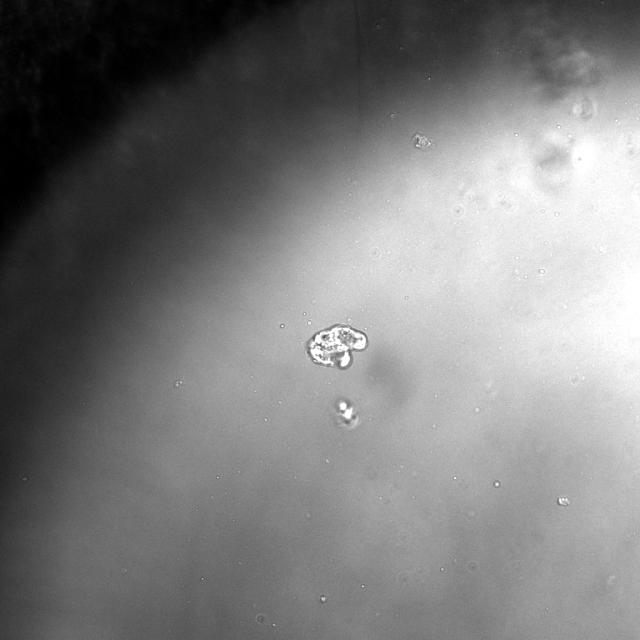organoid: (306, 324, 368, 369), (335, 398, 359, 430), (412, 133, 432, 150)
